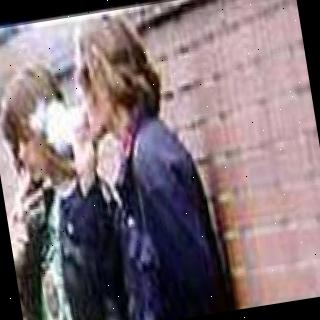smoke: (30, 84, 95, 160)
